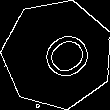O_SW: (24, 22, 91, 87)
